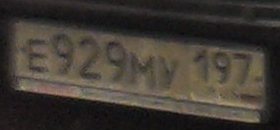character: (102, 34, 129, 85), (128, 49, 159, 91), (75, 32, 101, 81), (51, 31, 76, 78), (24, 37, 51, 75), (232, 49, 254, 90), (161, 52, 181, 94), (212, 47, 232, 86), (193, 46, 212, 86)
